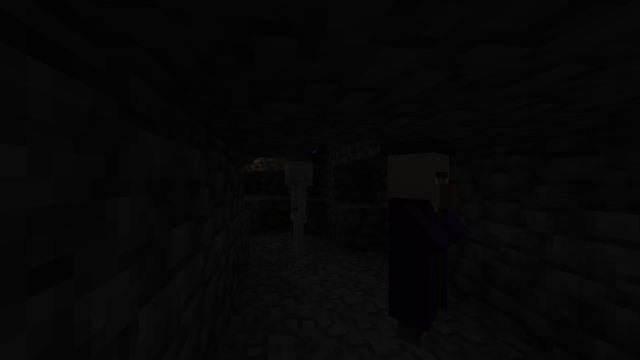sorcieres: (380, 144, 463, 355)
squelettes: (283, 161, 313, 260)
